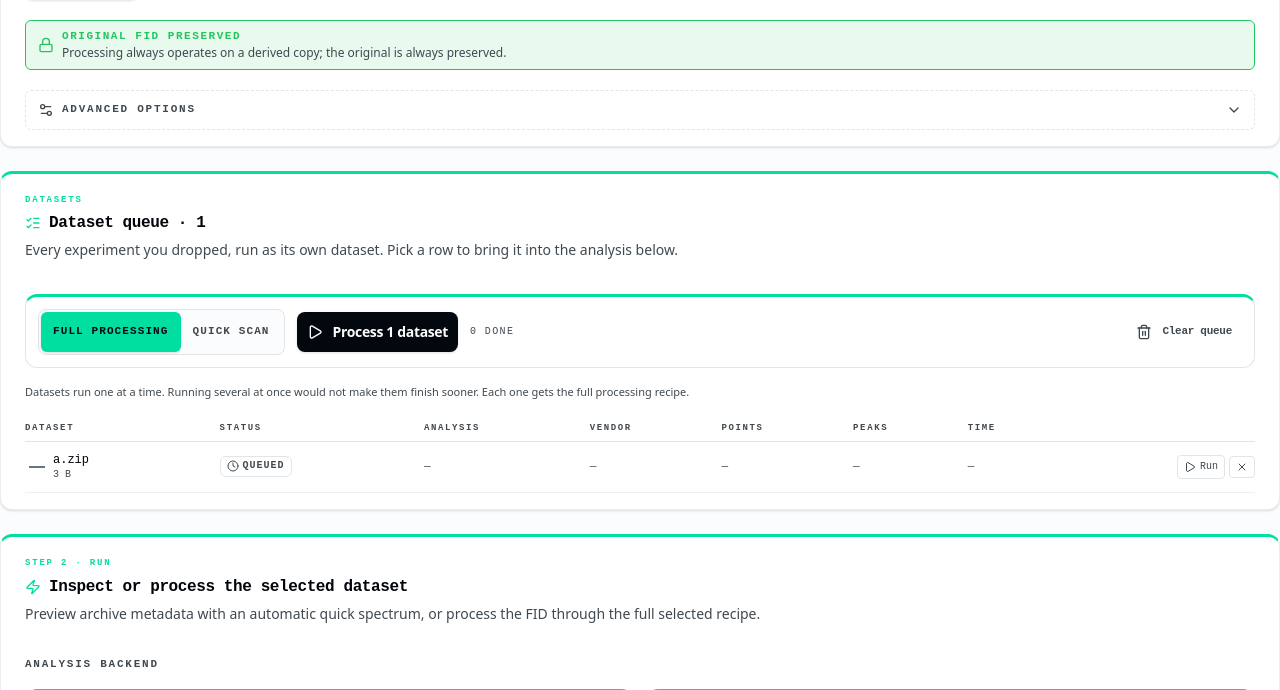
Test: a finished raw-FID analysis reads results first › puts the picked peaks above the citation list
Earlier steps of the test are not shown.
(page scrolled)
Click the button with test id "raw-fid-queue-run-all" at x=377, y=332, box [296,312,458,352]
(page scrolled)
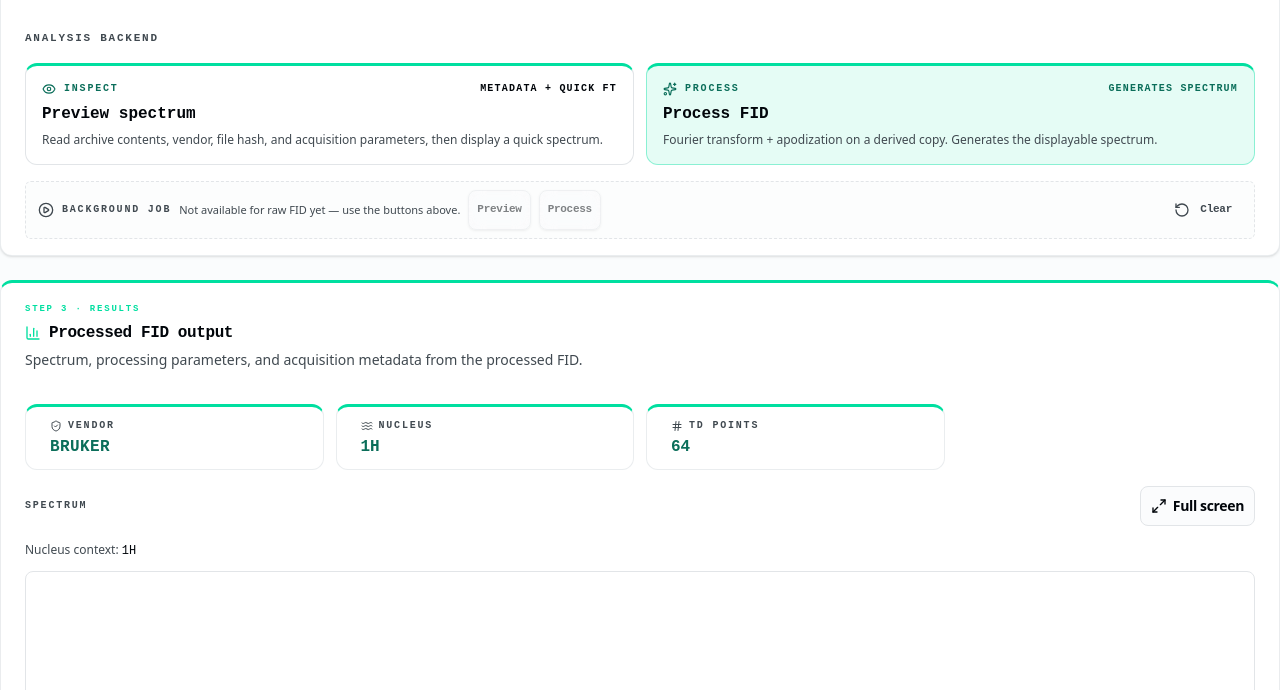
Check: the heading "Processed FID output" is shown, box [49,321,233,345]
